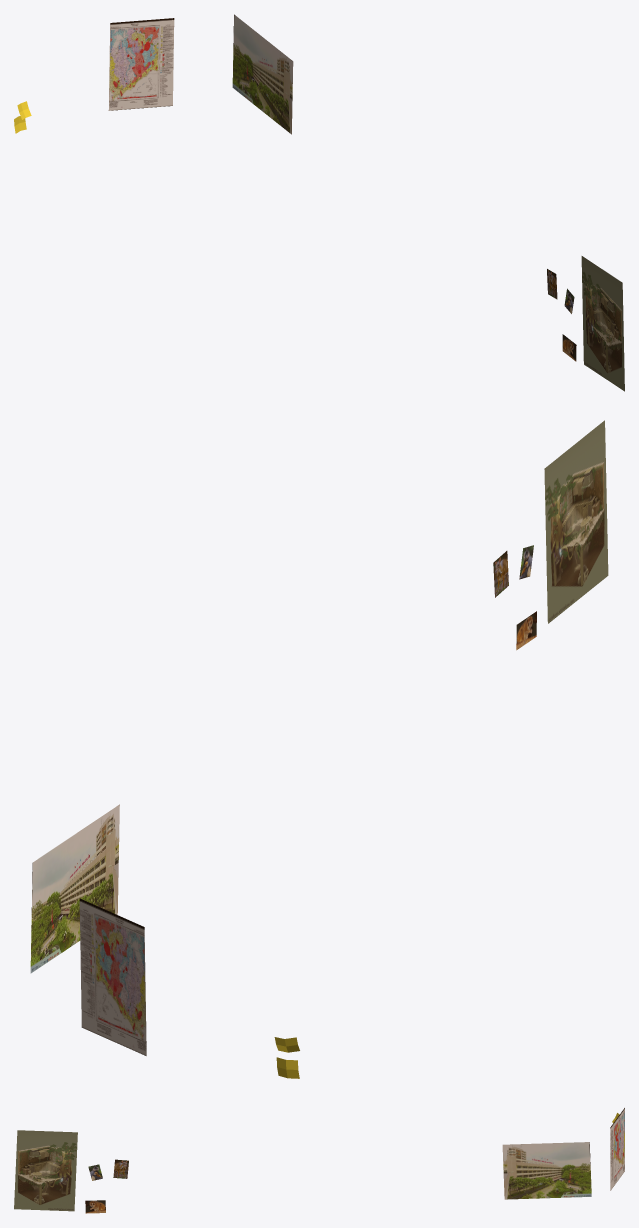
Rendered from poster.fbx.
The picture shows the model from 3 angles, top to bottom: view 1: azimuth 30°, elevation 25°; view 2: azimuth 150°, elevation 25°; view 3: azimuth 270°, elevation 25°; orthographic projection. The views are drawn at different scales.
Visible parts, largest first — view 1: Plane.013; view 2: Plane.013; view 3: Plane.013.
Boxes of the visible parts, x1,y1,x2,y2 form: Plane.013: [14, 14, 624, 391]; Plane.013: [30, 420, 608, 1078]; Plane.013: [14, 1108, 624, 1213].
Bounding box in the file's own units: 2.57 × 9.23 × 1.39.
Materials: 1 (1 with a texture image).
